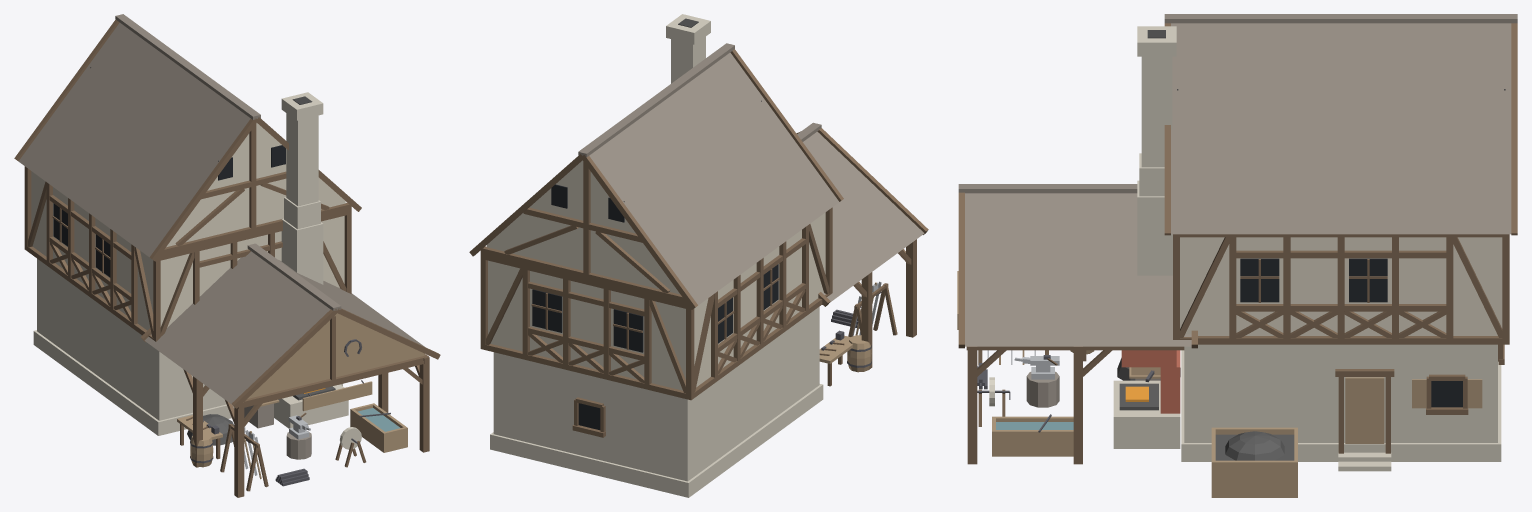
Rendered from blacksmith_workshop.glb.
The picture shows the model from 3 angles, left to right: view 1: azimuth 30°, elevation 25°; view 2: azimuth 150°, elevation 25°; view 3: azimuth 270°, elevation 25°; orthographic projection. The views are drawn at different scales.
Visible parts, largest first — view 1: BlacksmithWorkshop; view 2: BlacksmithWorkshop; view 3: BlacksmithWorkshop.
Part boxes in pixels (box(x1,y1,x2,y2)): BlacksmithWorkshop: box(14, 14, 440, 497); BlacksmithWorkshop: box(469, 14, 928, 497); BlacksmithWorkshop: box(957, 14, 1517, 497).
Size of the model in its own units: 9.62 by 11.18 by 14.29.
